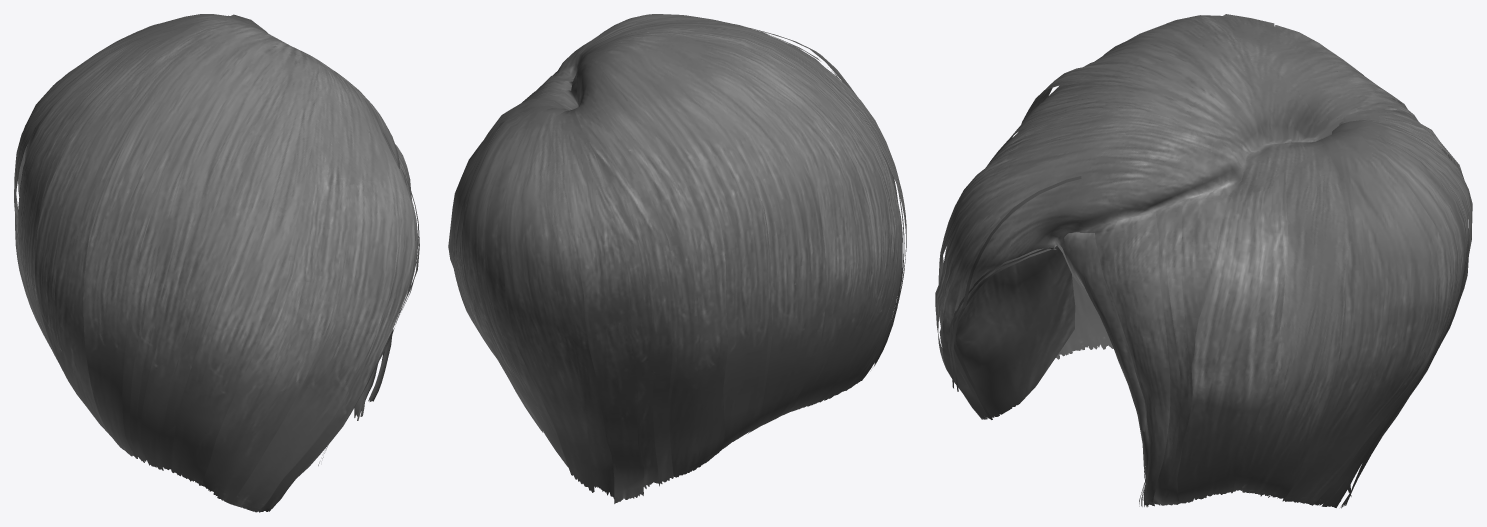
Rendered from bob01.glb.
3 renders of one model, left to right at view 1: azimuth 30°, elevation 25°; view 2: azimuth 150°, elevation 25°; view 3: azimuth 270°, elevation 25°, orthographic. The views are drawn at different scales.
Visible parts, largest first — view 1: editor_bob01; view 2: editor_bob01; view 3: editor_bob01.
Boxes of the visible parts, bbox=[...] form: editor_bob01: bbox=[14, 14, 419, 512]; editor_bob01: bbox=[448, 14, 906, 503]; editor_bob01: bbox=[935, 14, 1472, 508].
Size of the model in its own units: 0.2075 by 0.2331 by 0.2445.
Materials: 1 (1 with a texture image).
